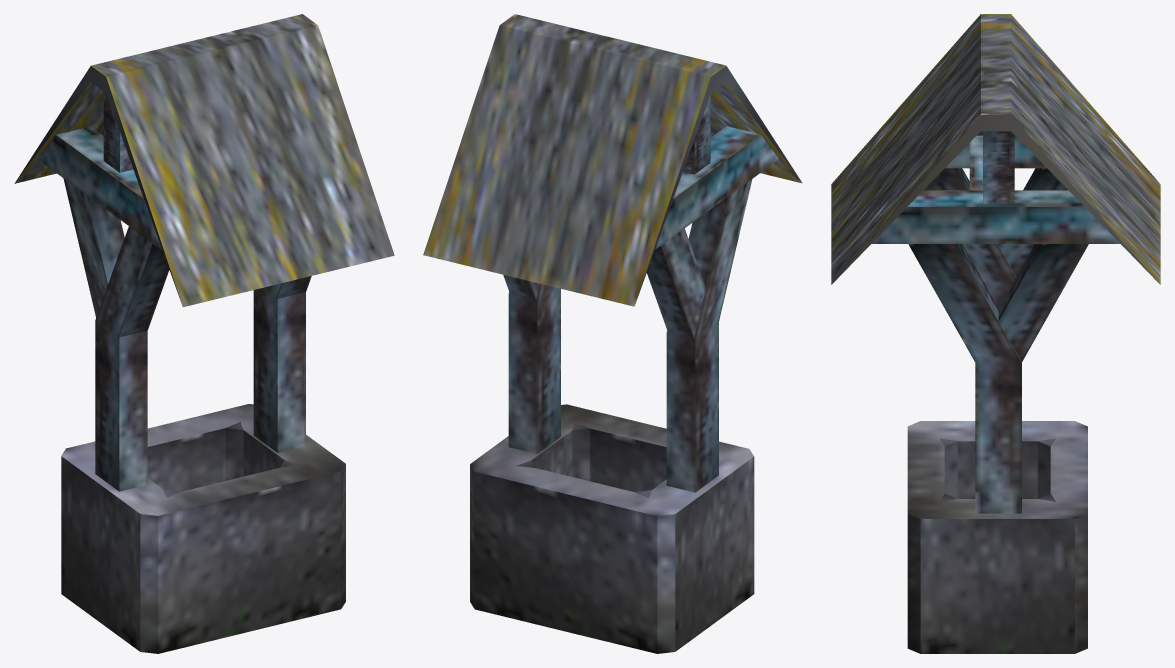
Rendered from well.fbx.
3 views of the same model, side by side, from view 1: azimuth 30°, elevation 25°; view 2: azimuth 150°, elevation 25°; view 3: azimuth 270°, elevation 25° (orthographic). The views are drawn at different scales.
Visible parts, largest first — view 1: well; view 2: well; view 3: well.
Boxes of the visible parts, x1,y1,x2,y2 form: well: [14, 14, 394, 653]; well: [423, 14, 802, 653]; well: [831, 14, 1160, 653].
Bounding box in the file's own units: 117 × 293 × 162.
1 material, 1 textured.
